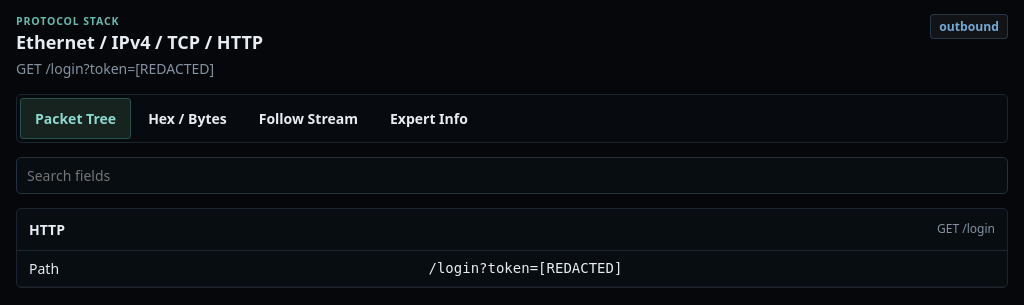
Scenario: DeepPacketPanel › renders packet tree, hex, and expert views without secrets
This screenshot has width=1024, height=305.
Check: the heading "Ethernet / IPv4 / TCP / HTTP" is shown, box [16, 30, 263, 54]
Click the tab "Hex / Bytes". click: (187, 118)
box: [133, 98, 242, 139]
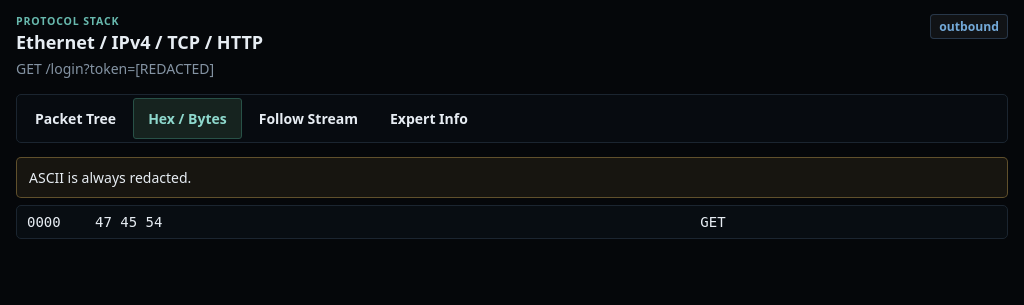
Check: the text "47 45 54" is shown, box [95, 214, 162, 230]
Click the tab "Expert Info". click: (429, 118)
box: [375, 98, 483, 139]
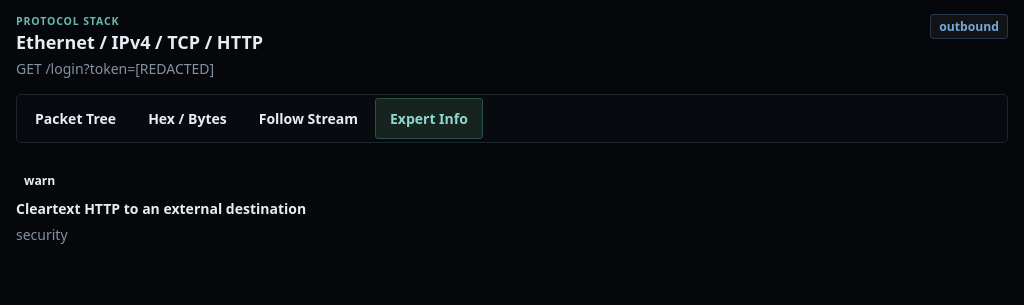
Check: the text "Cleartext HTTP to an external destination" is shown, box [16, 199, 306, 218]
